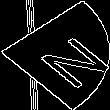N_NW: (11, 23, 99, 87)
